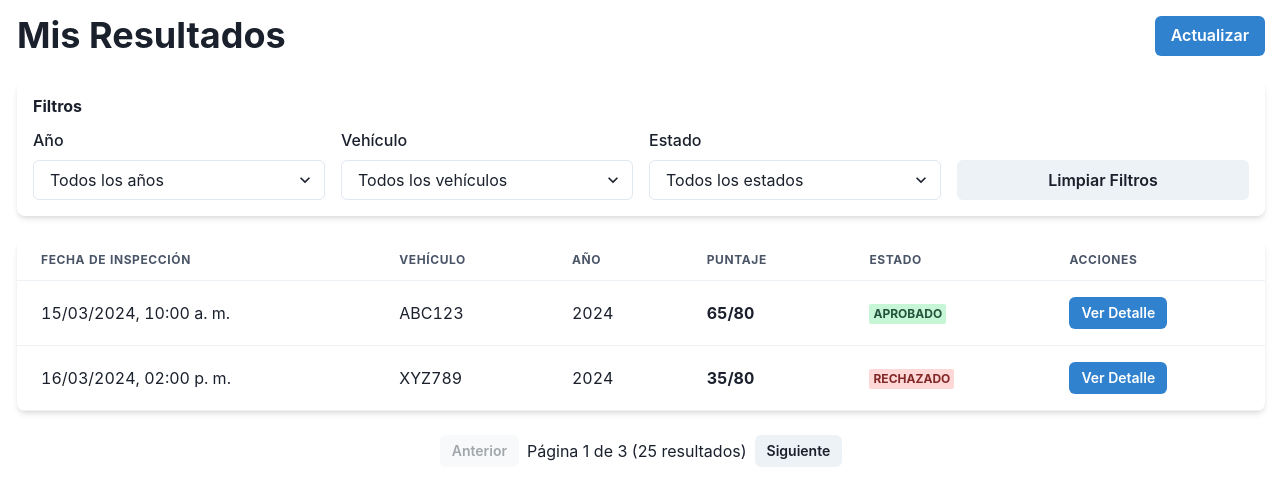
Test: InspectionResultsPage › pagination › should disable next button on last page
Expected: the text "Página 1 de 3 (25 resultados)" is shown, top-left (527, 439), bottom-right (746, 463)
# Navigate to page 2
Click the button "Siguiente": point(798, 451) top-left (754, 435), bottom-right (842, 467)
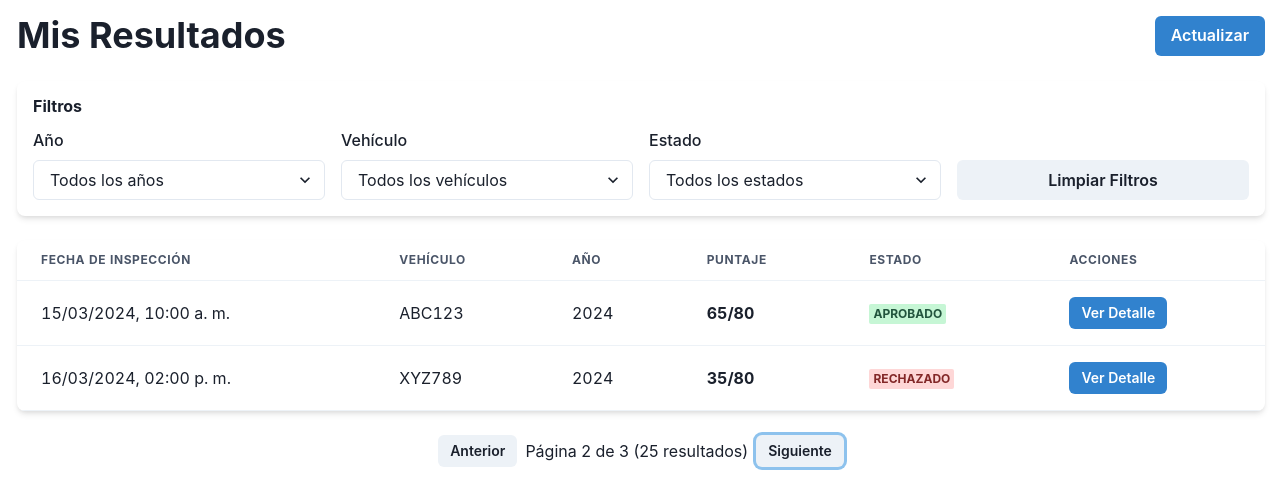
Now the text "Página 2 de 3 (25 resultados)" is shown, box top-left (525, 439), bottom-right (748, 463)
# Navigate to page 3 (last page)
Click the button "Siguiente": point(800, 451) top-left (756, 435), bottom-right (844, 467)
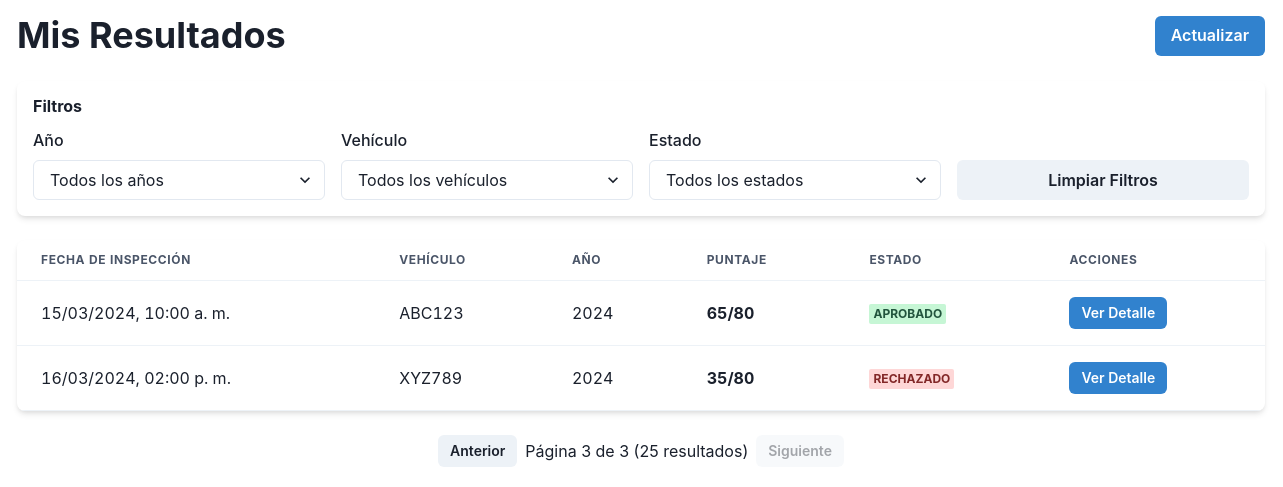
Now the text "Página 3 de 3 (25 resultados)" is shown, box top-left (525, 439), bottom-right (748, 463)
Now the button "Siguiente" is disabled, box top-left (756, 435), bottom-right (844, 467)
